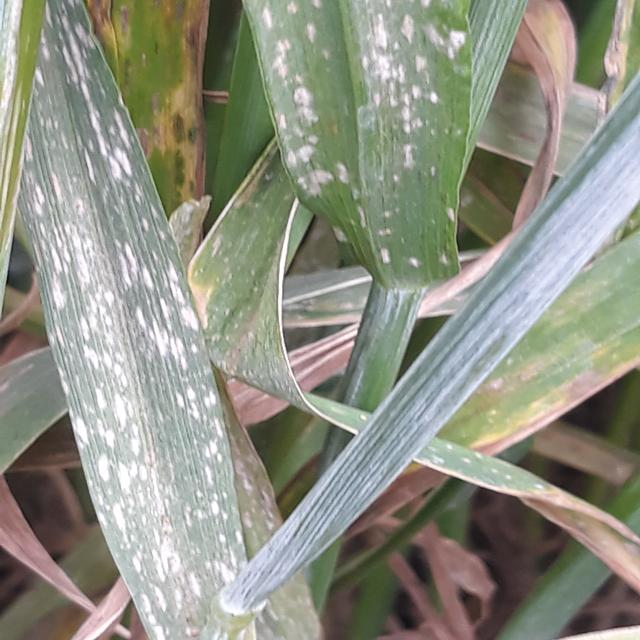powder_mildew: (0, 0, 318, 640), (418, 233, 638, 592), (259, 0, 465, 293), (496, 0, 640, 220), (310, 310, 385, 443)
